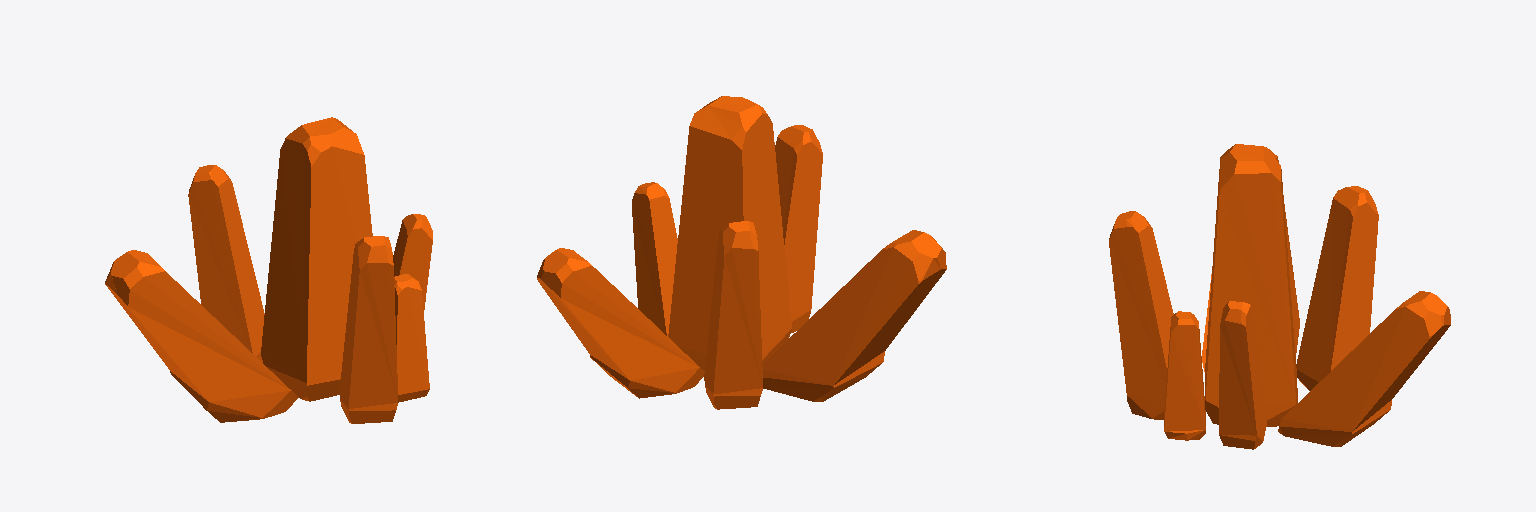
Rendered from orange_crystals.obj.
3 views of the same model, side by side, from view 1: azimuth 30°, elevation 25°; view 2: azimuth 150°, elevation 25°; view 3: azimuth 270°, elevation 25° (orthographic).
Visible parts, largest first — view 1: crystal_19; view 2: crystal_19; view 3: crystal_19.
Boxes of the visible parts, <box> form: crystal_19: <box>105,117,432,423</box>; crystal_19: <box>537,96,946,409</box>; crystal_19: <box>1109,144,1450,449</box>.
Bounding box in the file's own units: 0.6801 × 0.5312 × 0.6441.